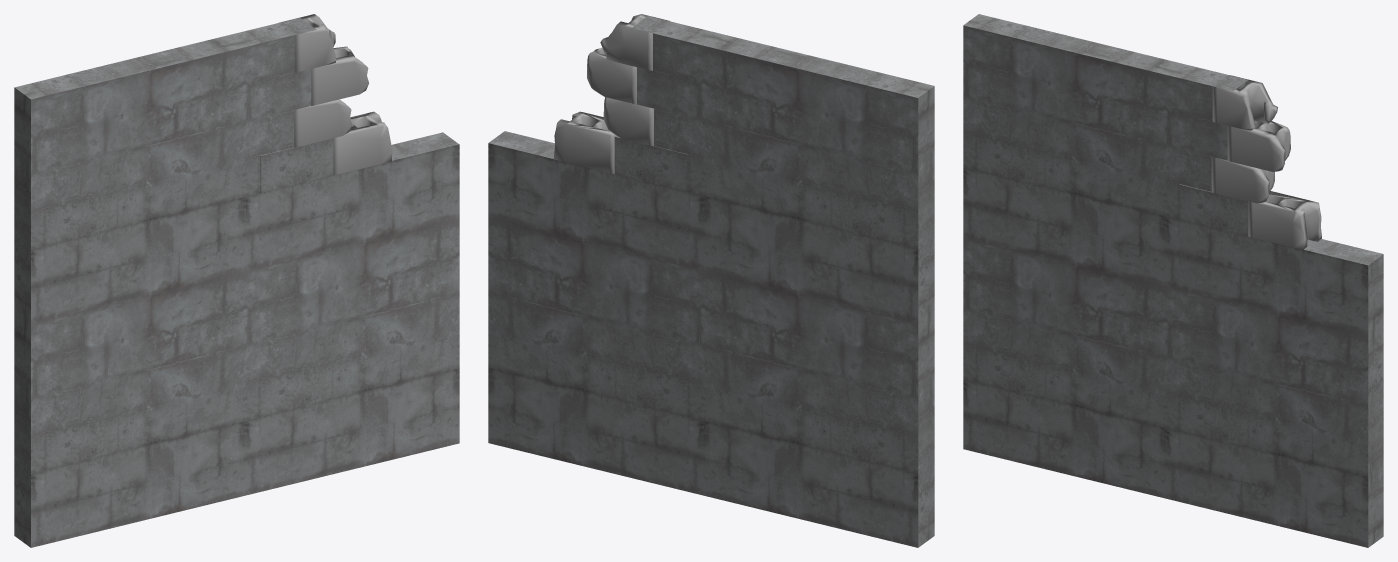
Rendered from wall_Full_01_Broken_mid_01.fbx.
3 views of the same model, side by side, from view 1: azimuth 30°, elevation 25°; view 2: azimuth 150°, elevation 25°; view 3: azimuth 330°, elevation 25° (orthographic). The views are drawn at different scales.
Visible parts, largest first — view 1: wall_Full_01_Broken_mid_01; view 2: wall_Full_01_Broken_mid_01; view 3: wall_Full_01_Broken_mid_01.
Part boxes in pixels (bbox=[...]): wall_Full_01_Broken_mid_01: bbox=[14, 14, 459, 547]; wall_Full_01_Broken_mid_01: bbox=[488, 14, 934, 547]; wall_Full_01_Broken_mid_01: bbox=[963, 14, 1383, 547].
Size of the model in its own units: 300 by 300 by 20.94.
2 materials, 1 textured.
